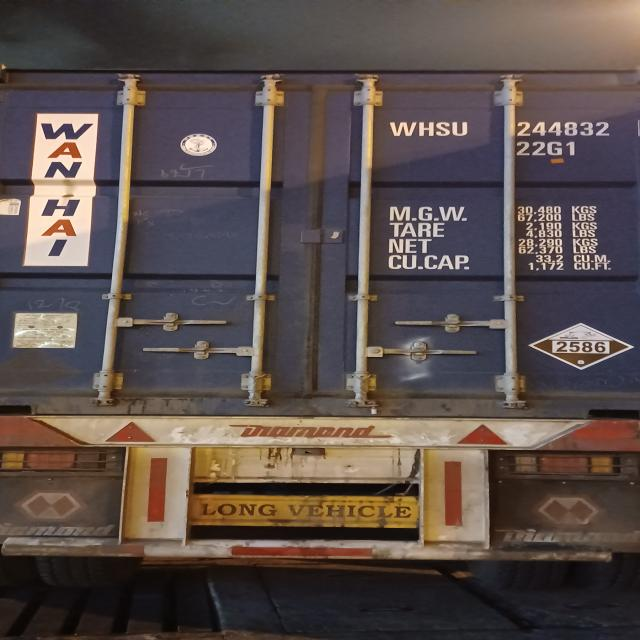seal: (364, 400, 382, 415)
